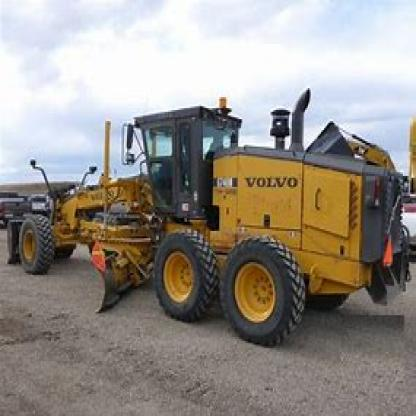bull_dozer/loader/grader: (7, 94, 412, 354)
